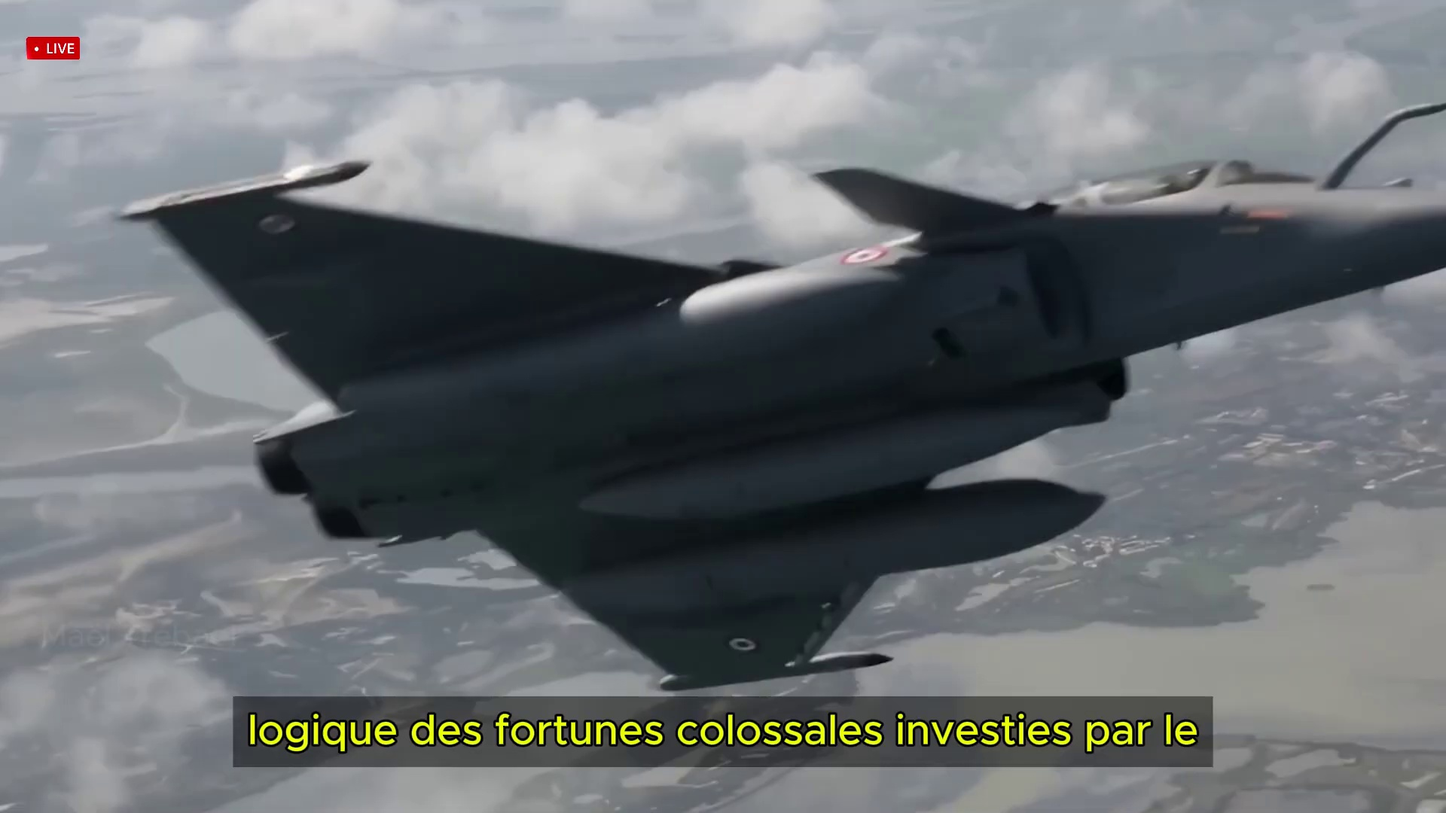Rafale: (102, 104, 1441, 692)
